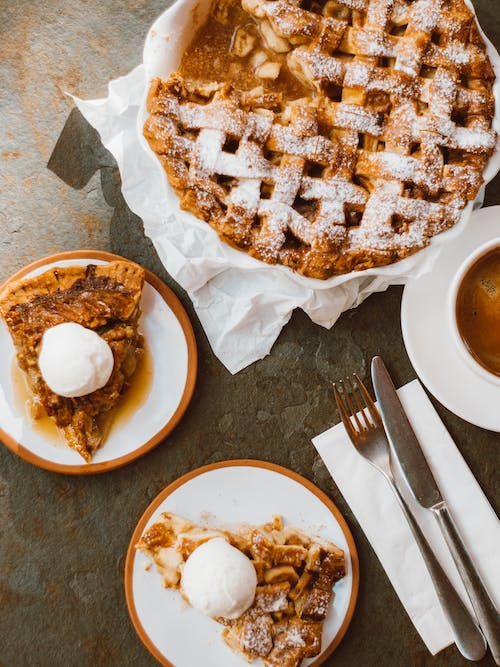knife: (369, 353, 500, 667)
